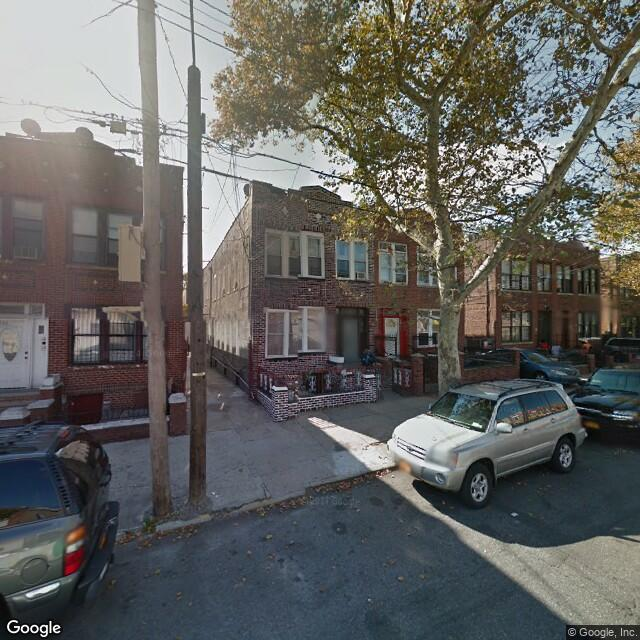litter: (218, 400, 226, 413), (511, 509, 519, 516), (215, 390, 220, 399)
